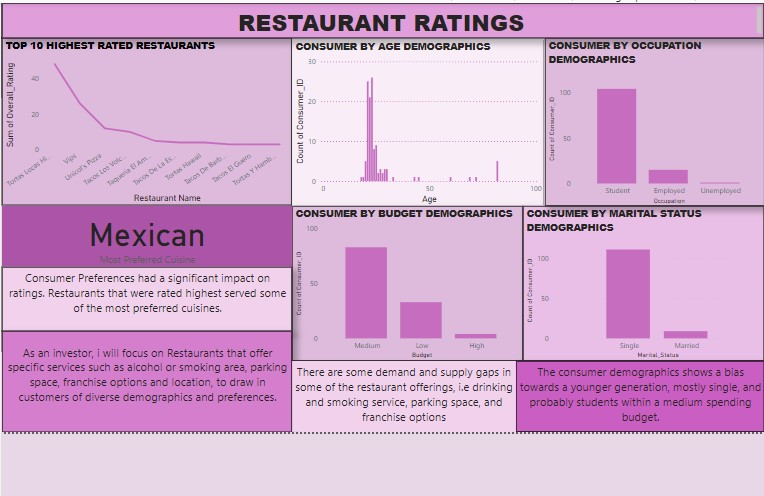

What the dashboard file says about the page in this screenshot:
{"tool":"powerbi","page":{"name":"Page 1","canvas":[1280,720],"ordinal":0},"visuals":[{"type":"lineChart","title":"TOP 10 HIGHEST RATED RESTAURANTS","fields":{"Category":["restaurants.Name"],"Y":["Sum(ratings.Overall_Rating)"]},"box":[0,58.8,487.1,280.5],"z":0},{"type":"clusteredColumnChart","title":"CONSUMER BY AGE DEMOGRAPHICS","fields":{"Y":["CountNonNull(consumers.Consumer_ID)"],"Category":["consumers.Age"]},"box":[487,60.9,424.4,280.7],"z":1000},{"type":"clusteredColumnChart","title":"CONSUMER BY BUDGET DEMOGRAPHICS","fields":{"Y":["CountNonNull(consumers.Consumer_ID)"],"Category":["consumers.Budget"]},"box":[487.1,341,388,260.4],"z":2000},{"type":"clusteredColumnChart","title":"CONSUMER BY MARITAL STATUS DEMOGRAPHICS","fields":{"Y":["CountNonNull(consumers.Consumer_ID)"],"Category":["consumers.Marital_Status"]},"box":[875.2,341,404.8,260.4],"z":3000},{"type":"clusteredColumnChart","title":"CONSUMER BY OCCUPATION DEMOGRAPHICS","fields":{"Y":["CountNonNull(consumers.Consumer_ID)"],"Category":["consumers.Occupation"]},"box":[911.4,59.2,368.6,282.4],"z":4000},{"type":"card","fields":{"Values":["Min(restaurant_cuisines.Cuisine)"]},"box":[0,341,487.1,102.5],"z":5000},{"type":"textbox","box":[0,443.5,487.1,107.5],"z":6000},{"type":"textbox","box":[863.4,601.4,416.6,119.3],"z":7000},{"type":"textbox","box":[0,551,487.1,169.7],"z":8000},{"type":"textbox","box":[487.1,601.4,376.3,119.3],"z":9000},{"type":"textbox","box":[0,0,1280,58.8],"z":10000}]}

Visuals, with their boxes in screenshot pixels (x1, y1, x2, y2):
"TOP 10 HIGHEST RATED RESTAURANTS" lineChart: l=4, t=39, r=291, b=204
"CONSUMER BY AGE DEMOGRAPHICS" clusteredColumnChart: l=291, t=40, r=540, b=205
"CONSUMER BY BUDGET DEMOGRAPHICS" clusteredColumnChart: l=291, t=205, r=519, b=358
"CONSUMER BY MARITAL STATUS DEMOGRAPHICS" clusteredColumnChart: l=519, t=205, r=757, b=358
"CONSUMER BY OCCUPATION DEMOGRAPHICS" clusteredColumnChart: l=540, t=39, r=757, b=205
card - Min(restaurant_cuisines.Cuisine): l=4, t=205, r=291, b=265
textbox: l=4, t=265, r=291, b=328
textbox: l=512, t=358, r=757, b=428
textbox: l=4, t=328, r=291, b=428
textbox: l=291, t=358, r=512, b=428
textbox: l=4, t=4, r=757, b=39
